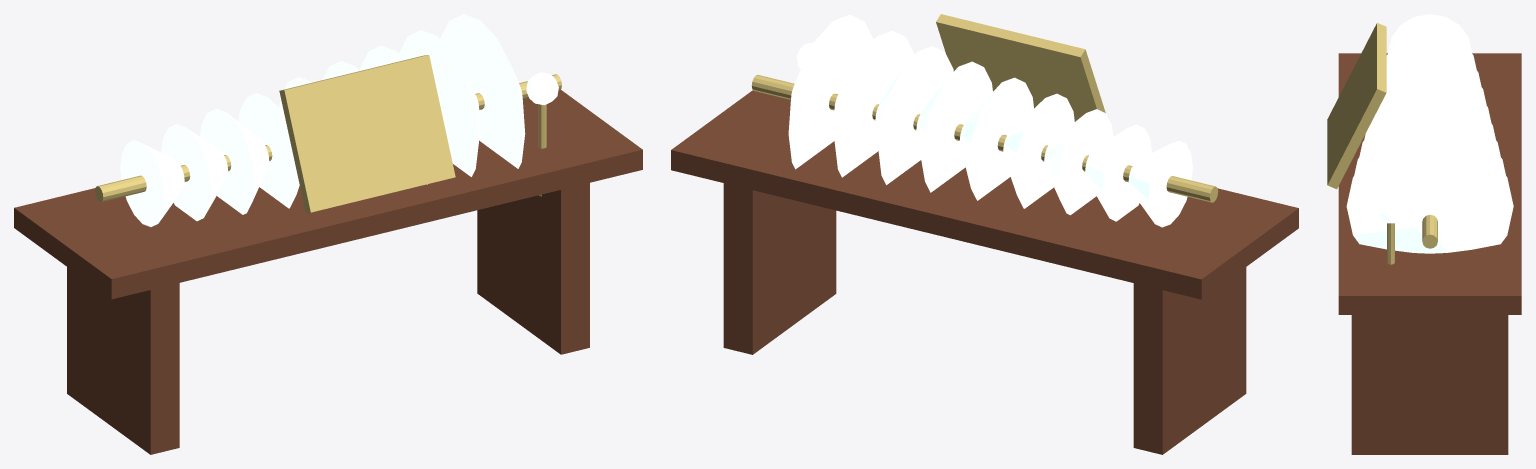
The model's file is glass_armonica.glb.
The picture shows the model from 3 angles, left to right: view 1: azimuth 30°, elevation 25°; view 2: azimuth 150°, elevation 25°; view 3: azimuth 270°, elevation 25°; orthographic projection. The views are drawn at different scales.
Parts seen in each view (by area): view 1: Cube, Cube.003, Cube.001, Cube.002, ArmonicaBowl_8, ArmonicaBowl_7, ArmonicaBowl_2, ArmonicaBowl_1, ArmonicaBowl_0, ArmonicaBowl_3, Cylinder, Icosphere (+1 smaller); view 2: Cube, Cube.001, Cube.002, Cube.003, ArmonicaBowl_8, ArmonicaBowl_7, ArmonicaBowl_6, ArmonicaBowl_5, ArmonicaBowl_4, ArmonicaBowl_3, ArmonicaBowl_2, ArmonicaBowl_1 (+2 smaller); view 3: Cube.002, Cube, ArmonicaBowl_8, Cube.003, ArmonicaBowl_7, ArmonicaBowl_6, ArmonicaBowl_5, ArmonicaBowl_4, ArmonicaBowl_3, ArmonicaBowl_2, ArmonicaBowl_1, ArmonicaBowl_0 (+3 smaller).
Part boxes in pixels (x1=…): Cube: x1=14, y1=90, x2=642, y2=299; Cube.003: x1=279, y1=55, x2=455, y2=212; Cube.001: x1=67, y1=267, x2=179, y2=454; Cube.002: x1=477, y1=183, x2=589, y2=354; ArmonicaBowl_8: x1=440, y1=14, x2=525, y2=168; ArmonicaBowl_7: x1=399, y1=30, x2=479, y2=176; ArmonicaBowl_2: x1=200, y1=108, x2=269, y2=214; ArmonicaBowl_1: x1=161, y1=124, x2=228, y2=221; ArmonicaBowl_0: x1=120, y1=140, x2=184, y2=226; ArmonicaBowl_3: x1=238, y1=93, x2=299, y2=208; Cylinder: x1=95, y1=74, x2=561, y2=202; Icosphere: x1=526, y1=72, x2=558, y2=105; Cube: x1=671, y1=90, x2=1298, y2=299; Cube.001: x1=1133, y1=267, x2=1246, y2=454; Cube.002: x1=723, y1=183, x2=836, y2=354; Cube.003: x1=936, y1=14, x2=1105, y2=121; ArmonicaBowl_8: x1=788, y1=14, x2=873, y2=169; ArmonicaBowl_7: x1=834, y1=30, x2=914, y2=177; ArmonicaBowl_6: x1=875, y1=46, x2=953, y2=184; ArmonicaBowl_5: x1=916, y1=61, x2=992, y2=192; ArmonicaBowl_4: x1=959, y1=77, x2=1033, y2=200; ArmonicaBowl_3: x1=1003, y1=93, x2=1074, y2=208; ArmonicaBowl_2: x1=1044, y1=109, x2=1113, y2=215; ArmonicaBowl_1: x1=1085, y1=124, x2=1151, y2=221; Cube.002: x1=1351, y1=315, x2=1508, y2=454; Cube: x1=1338, y1=53, x2=1521, y2=314; ArmonicaBowl_8: x1=1346, y1=130, x2=1513, y2=253; Cube.003: x1=1327, y1=23, x2=1386, y2=189; ArmonicaBowl_7: x1=1354, y1=115, x2=1505, y2=174; ArmonicaBowl_6: x1=1359, y1=101, x2=1500, y2=156; ArmonicaBowl_5: x1=1364, y1=87, x2=1495, y2=139; ArmonicaBowl_4: x1=1376, y1=72, x2=1491, y2=123; ArmonicaBowl_3: x1=1386, y1=57, x2=1486, y2=104; ArmonicaBowl_2: x1=1386, y1=43, x2=1481, y2=86; ArmonicaBowl_1: x1=1386, y1=29, x2=1476, y2=69; ArmonicaBowl_0: x1=1388, y1=14, x2=1471, y2=52.
Bounding box in the file's own units: 2.2 × 1.26 × 0.7432.
